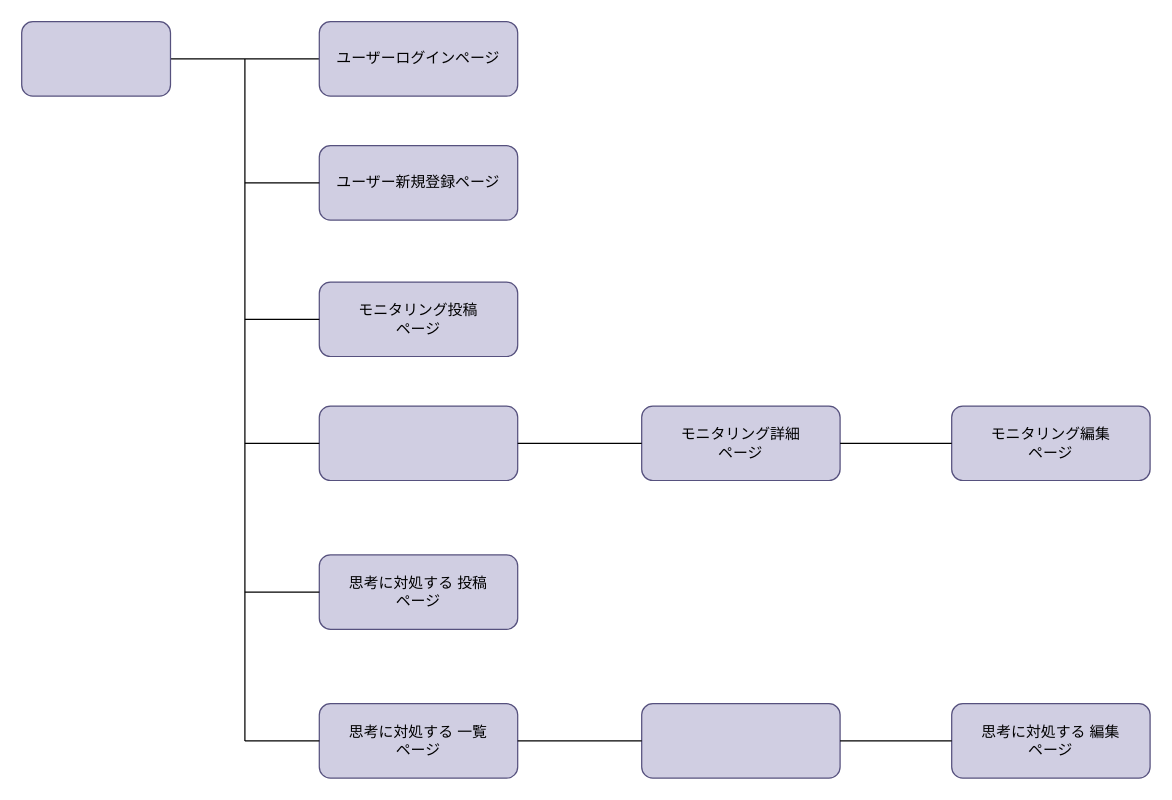
Some shapes in this 1172 by 800 pixel diagram are drawn without their labels. The centre of each missing label's shape, as x and y in pixels:
トップページ: (95,58)
モニタリング一覧 ページ: (418,442)
思考に対処する 詳細 ページ: (740,740)
